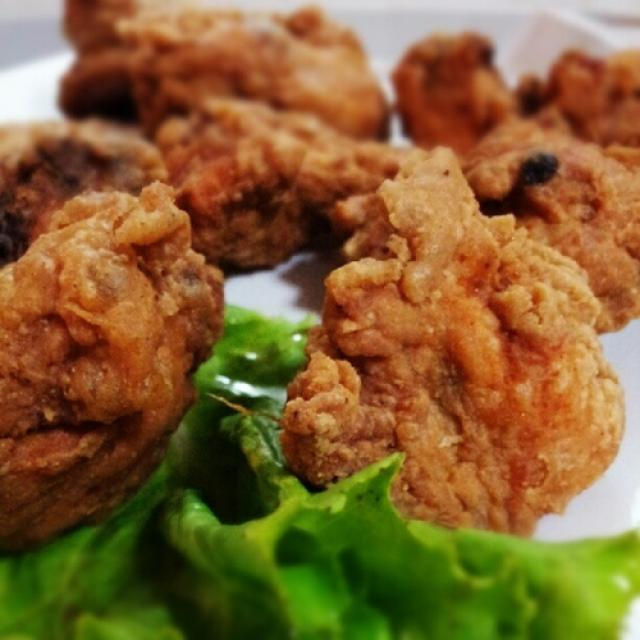鸡肉料理 含炸鸡: (19, 23, 626, 591)
